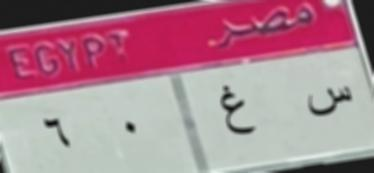0: (114, 112, 146, 148)
6: (40, 116, 73, 152)
ghayn: (212, 80, 258, 143)
seen: (303, 80, 353, 120)
